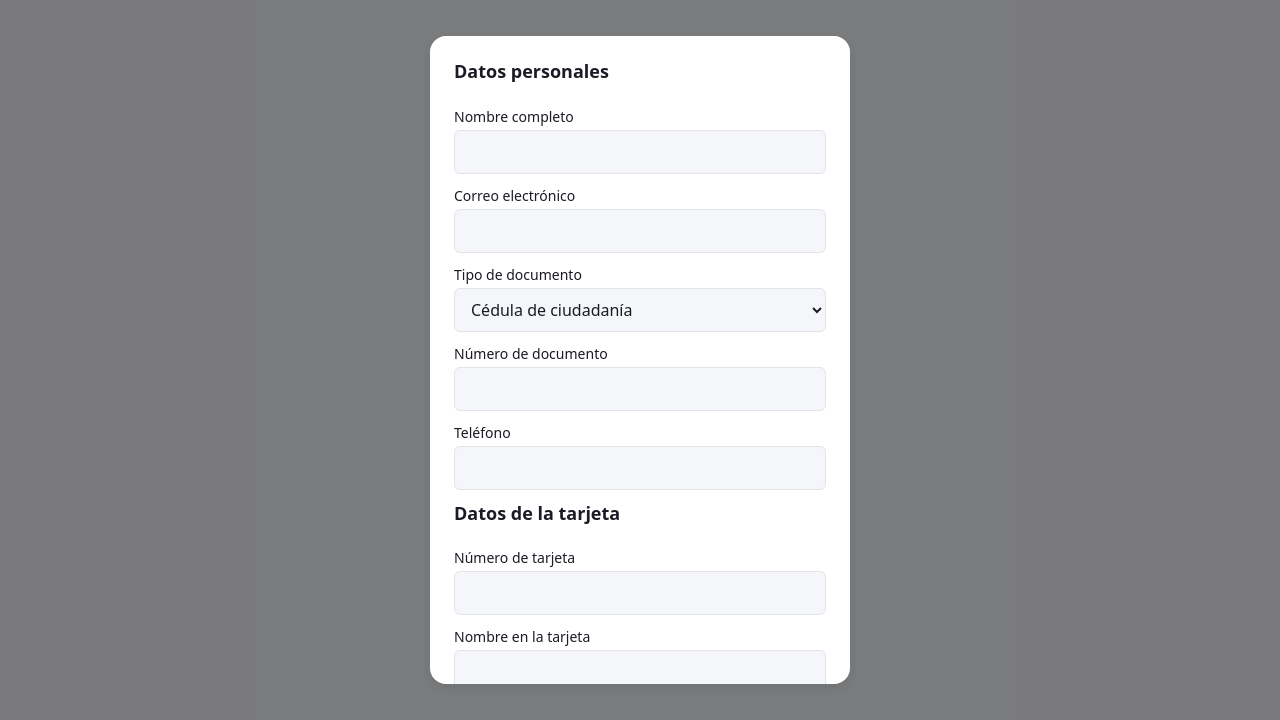
Scenario: CardModal › strips non-digit characters from document number, card number, and CVC as you type
This screenshot has width=1280, height=720.
In the field labelled "Número de documento": (640, 388) [454,366,826,410], type "a1b2c3"
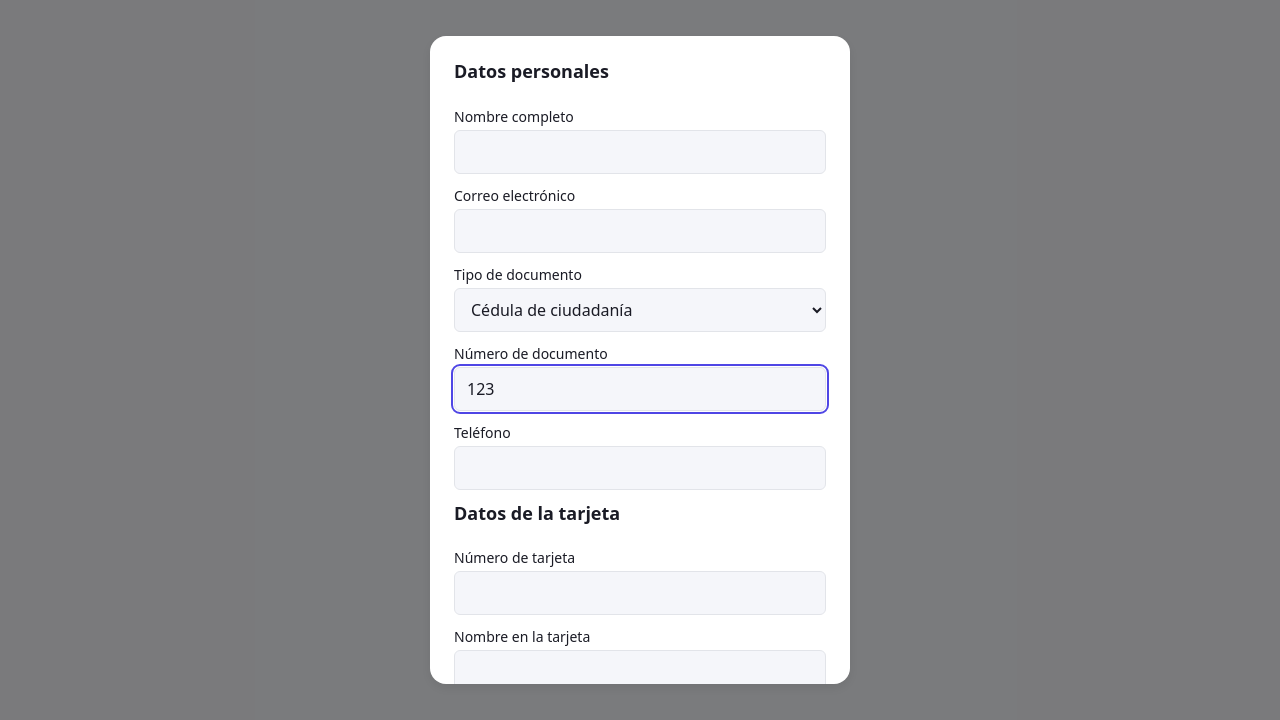
In the field labelled "Número de tarjeta": (640, 593) [454,571,826,615], type "41a1 11b1"
(page scrolled)
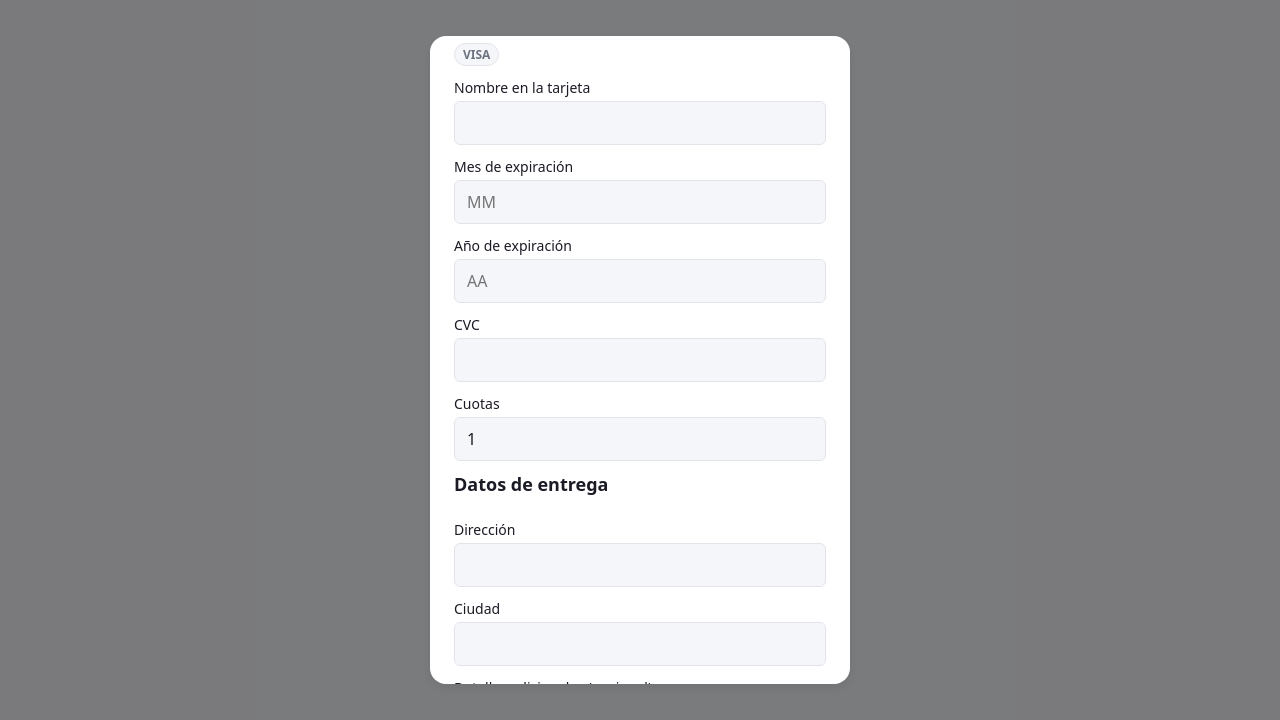
In the field labelled "CVC": (640, 360) [454,338,826,382], type "1x2y3z"
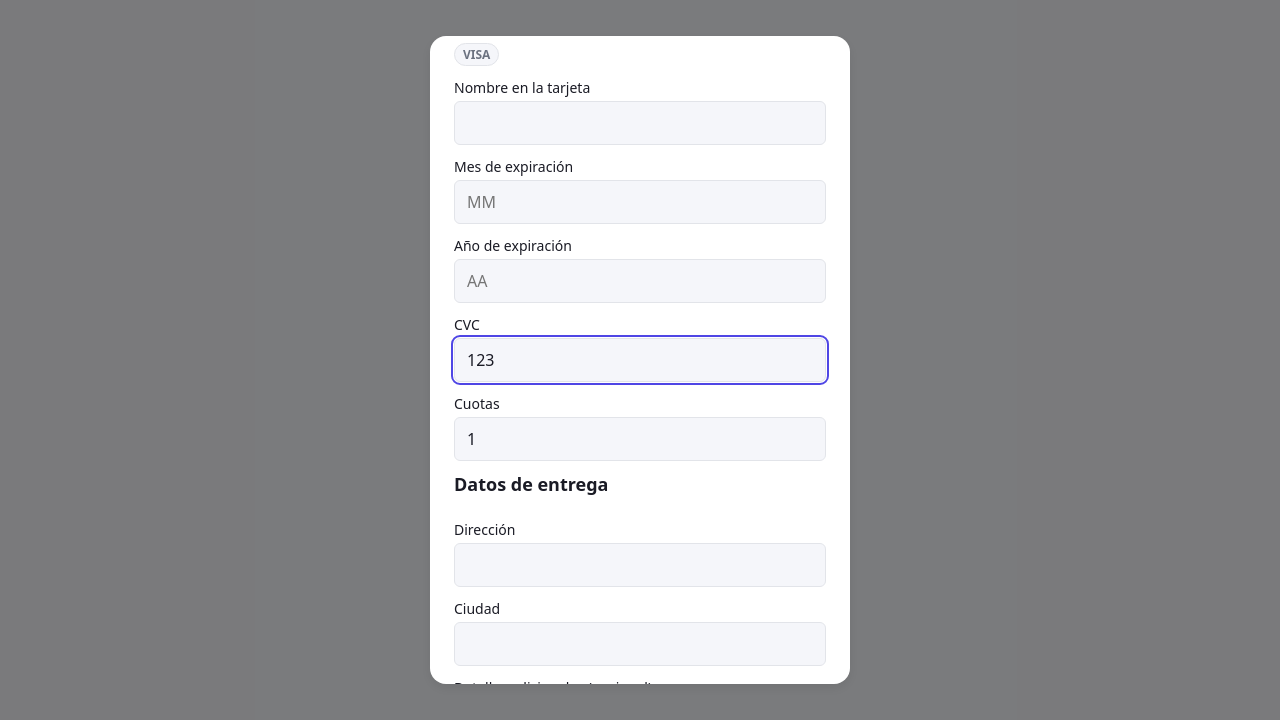
Now the field labelled "CVC" holds "123", box [454,338,826,382]
